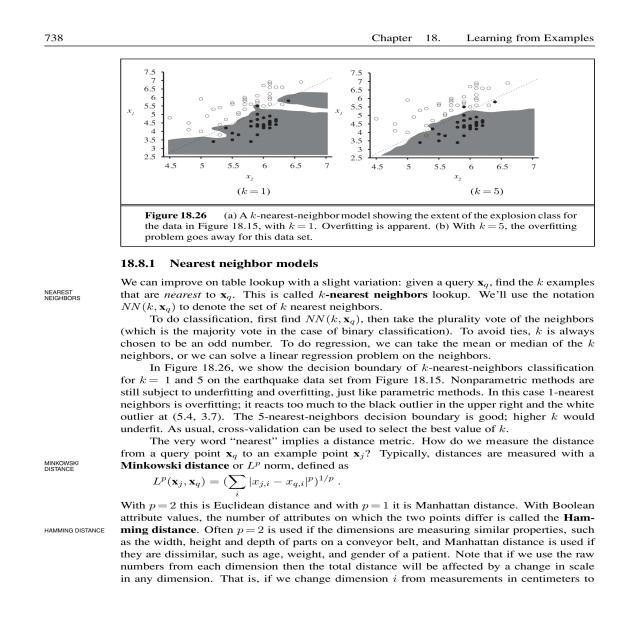diagram: (66, 53, 640, 256)
